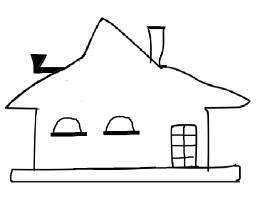chimney: (139, 21, 169, 69), (21, 48, 70, 75)
door: (163, 122, 204, 172)
open_window: (100, 113, 142, 137), (51, 114, 87, 141)
single_line_roof: (4, 17, 252, 112)
wall: (26, 107, 217, 175)
